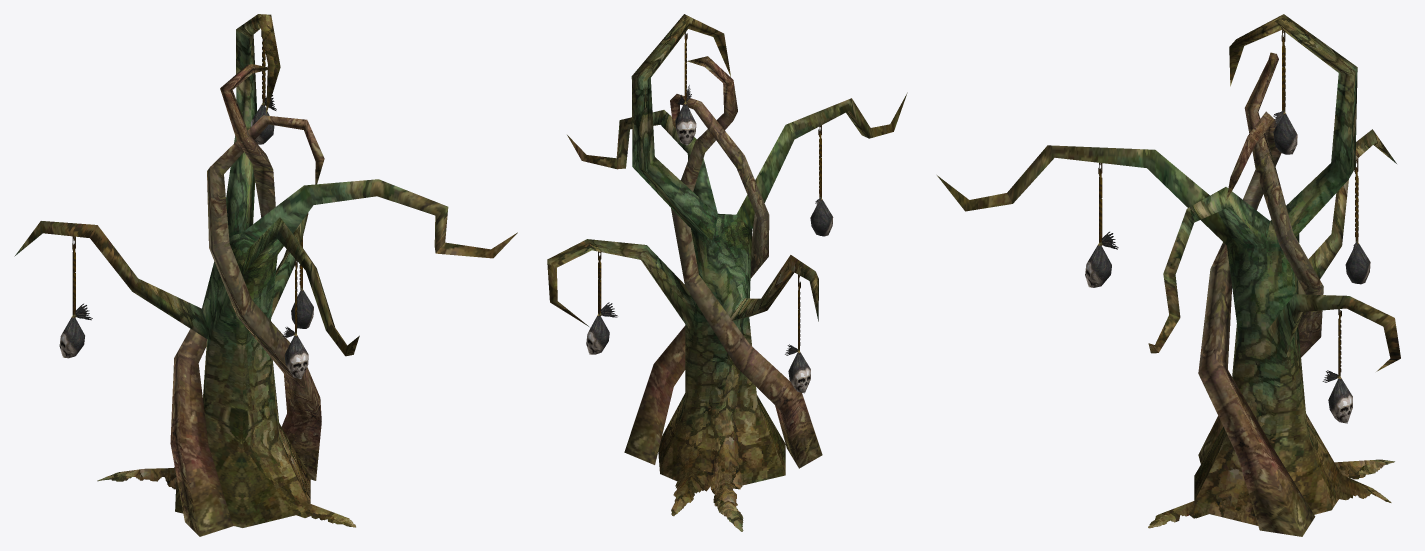
Rendered from nml-bd166.glb.
The picture shows the model from 3 angles, left to right: view 1: azimuth 30°, elevation 25°; view 2: azimuth 150°, elevation 25°; view 3: azimuth 270°, elevation 25°; orthographic projection. The views are drawn at different scales.
Visible parts, largest first — view 1: geom_node_0, geom_node_1; view 2: geom_node_0, geom_node_1; view 3: geom_node_0, geom_node_1.
Boxes of the visible parts, left/top/right/bottom form: geom_node_0: left=14, top=14, right=448, bottom=536; geom_node_1: left=326, top=232, right=517, bottom=356; geom_node_0: left=547, top=14, right=870, bottom=531; geom_node_1: left=567, top=92, right=907, bottom=168; geom_node_0: left=1007, top=14, right=1400, bottom=536; geom_node_1: left=937, top=175, right=1179, bottom=353.
Bounding box in the file's own units: 7.84 × 9.37 × 7.97.
2 materials, 2 textured.
